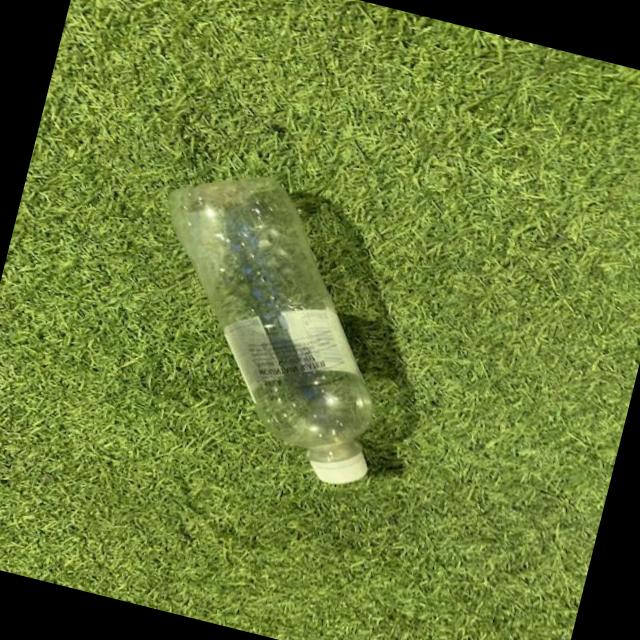plastic_bottle: (107, 146, 434, 493)
